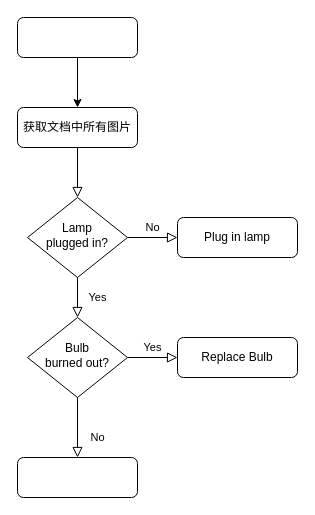
Some shapes in this 315 by 515 pixel diagram are drawn without their labels. The shapes that lost their labels are listed below. From the top down, each one's centre as x and y in pixels, then its label:
At (x=77, y=37): "开始".
At (x=77, y=477): "Repair Lamp".
